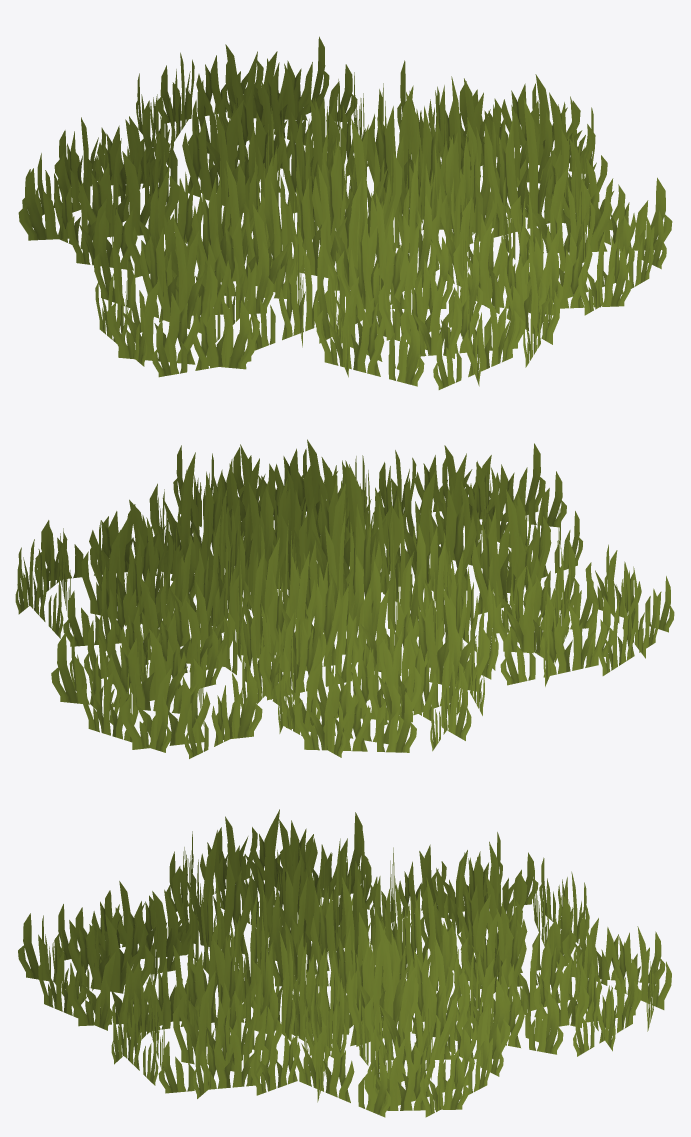
Rendered from SM_Env_Grass_Clump_03.fbx.
3 renders of one model, top to bottom at view 1: azimuth 30°, elevation 25°; view 2: azimuth 150°, elevation 25°; view 3: azimuth 270°, elevation 25°, orthographic. The views are drawn at different scales.
Parts seen in each view (by area): view 1: SM_Env_Grass_Clump_03_LOD0; view 2: SM_Env_Grass_Clump_03_LOD0; view 3: SM_Env_Grass_Clump_03_LOD0.
Boxes of the visible parts, left/top/right/bottom form: SM_Env_Grass_Clump_03_LOD0: left=18, top=36, right=672, bottom=389; SM_Env_Grass_Clump_03_LOD0: left=15, top=439, right=674, bottom=758; SM_Env_Grass_Clump_03_LOD0: left=18, top=809, right=671, bottom=1117.
Size of what is drawn, in the model's own units: 389 by 98.04 by 433.
